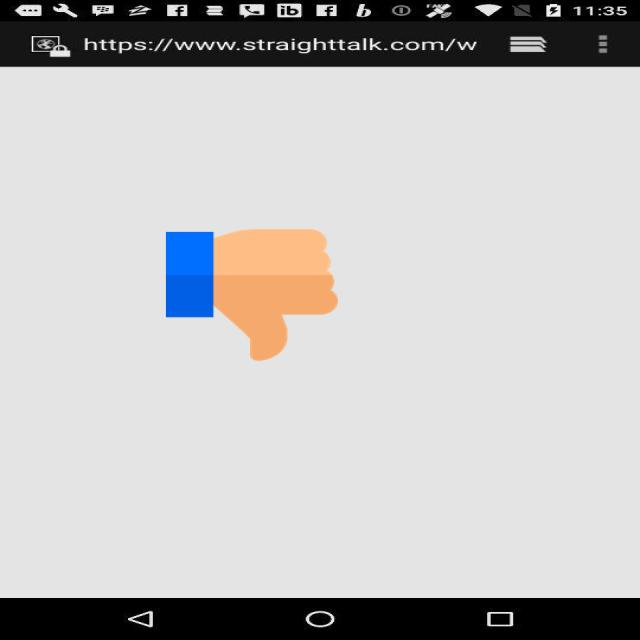obstruction: (166, 226, 338, 364)
